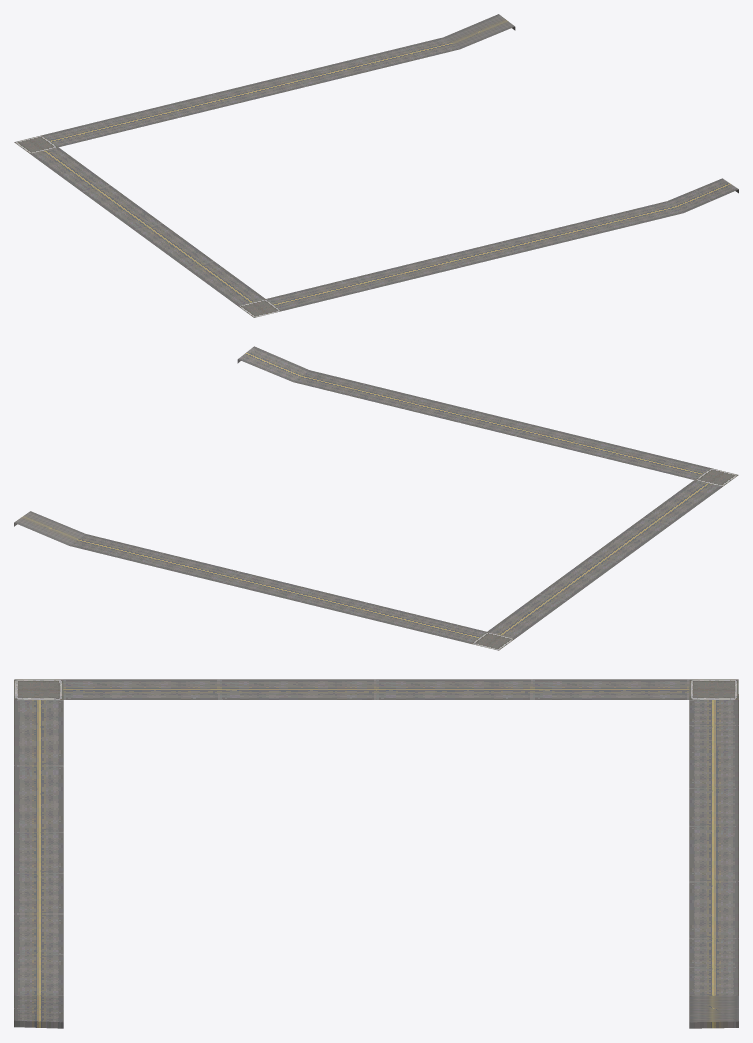
The model's file is lodaseroad137.obj.
The picture shows the model from 3 angles, top to bottom: view 1: azimuth 30°, elevation 25°; view 2: azimuth 150°, elevation 25°; view 3: azimuth 270°, elevation 25°; orthographic projection. The views are drawn at different scales.
Parts seen in each view (by area): view 1: lodasEroad137; view 2: lodasEroad137; view 3: lodasEroad137.
Part boxes in pixels (x1,y1,x2,y2): lodasEroad137: (14, 14, 738, 317); lodasEroad137: (14, 346, 738, 650); lodasEroad137: (14, 679, 738, 1028).
Size of the model in its own units: 175 by 3.57 by 150.
Materials: 2 (2 with a texture image).
